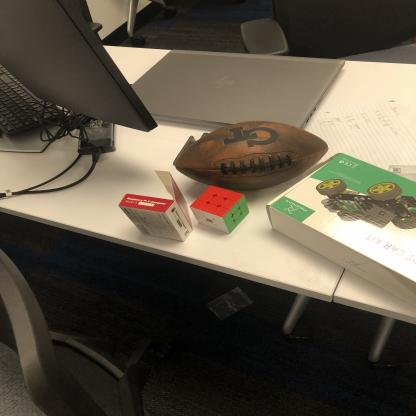SolvedCube: (187, 182, 254, 239)
